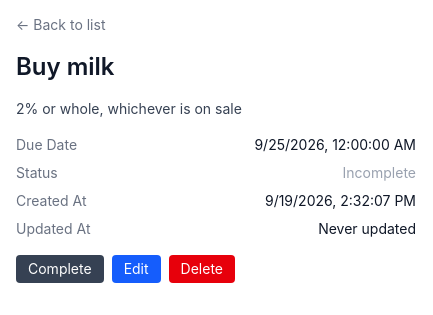
Test: TodoDetailRoute › shows the pre-filled edit form and hides Delete/toggle when Edit is clicked
Expected: the heading "Buy milk" is shown, [16,52,114,81]
Click the button "Edit": x=136, y=269 [112,255,161,283]
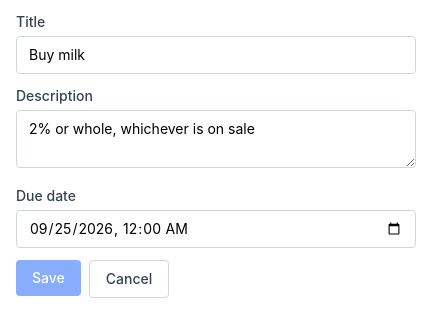
Expected: the field labelled "Title" holds "Buy milk", [16,36,416,74]
Expected: the button "Delete" is gone
Expected: the text "complete" is gone
